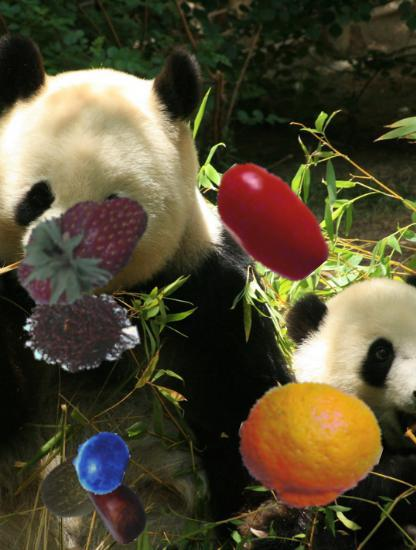Chestnut: (85, 475, 154, 544)
Huckleberry: (68, 430, 133, 495)
Mandarine: (237, 375, 381, 519)
Melon: (36, 434, 128, 526)
Rambutan: (15, 268, 137, 390)
Strawberry: (6, 171, 154, 319)
Tomato: (203, 155, 337, 289)
